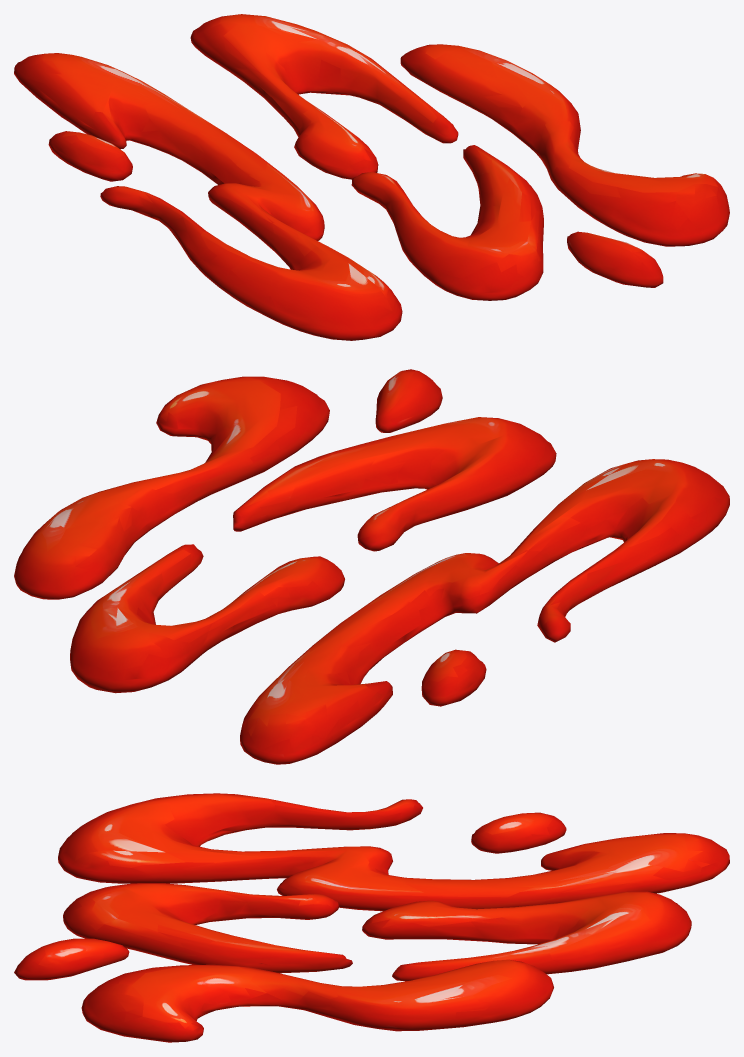
The model's file is SaladKetchup.fbx.
The picture shows the model from 3 angles, top to bottom: view 1: azimuth 30°, elevation 25°; view 2: azimuth 150°, elevation 25°; view 3: azimuth 270°, elevation 25°; orthographic projection. The views are drawn at different scales.
Parts seen in each view (by area): view 1: SaladKetchup; view 2: SaladKetchup; view 3: SaladKetchup.
Boxes of the visible parts, x1,y1,x2,y2 form: SaladKetchup: [14, 14, 729, 340]; SaladKetchup: [14, 369, 729, 764]; SaladKetchup: [14, 793, 729, 1042].
Bounding box in the file's own units: 0.4807 × 0.0535 × 0.65.
Materials: 1 (1 with a texture image).
